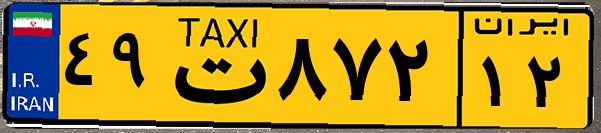1: (475, 38, 525, 113)
2: (385, 28, 445, 110), (525, 38, 570, 115)
4: (57, 26, 110, 100)
7: (330, 28, 385, 110)
8: (270, 28, 330, 110)
9: (110, 28, 158, 98)
ت: (158, 12, 270, 120)
